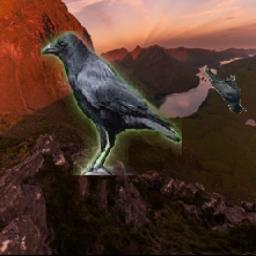Crow: (41, 30, 182, 175), (205, 65, 248, 113)
